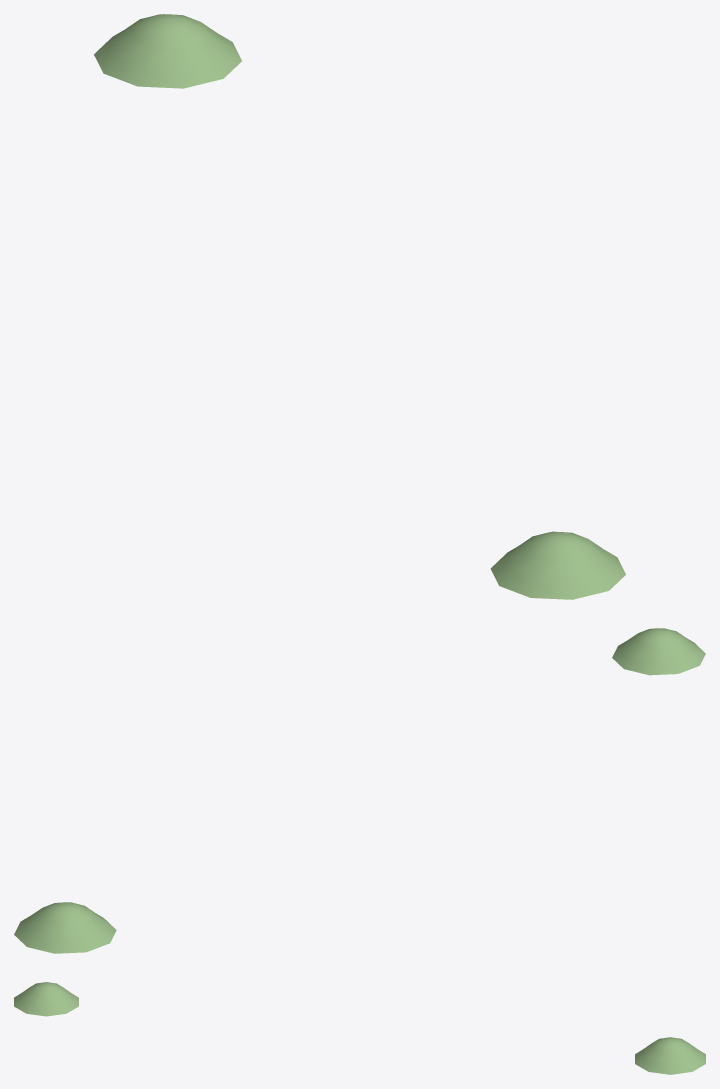
The model's file is hills.fbx.
3 views of the same model, one above another, from view 1: azimuth 30°, elevation 25°; view 2: azimuth 150°, elevation 25°; view 3: azimuth 270°, elevation 25° (orthographic). The views are drawn at different scales.
Visible parts, largest first — view 1: hill_1_geo, hill_2_geo; view 2: hill_1_geo, hill_2_geo; view 3: hill_1_geo, hill_2_geo.
Part boxes in pixels (bbox=[...]): hill_1_geo: bbox=[94, 14, 241, 88]; hill_2_geo: bbox=[490, 531, 625, 599]; hill_1_geo: bbox=[14, 902, 116, 953]; hill_2_geo: bbox=[612, 628, 705, 675]; hill_1_geo: bbox=[635, 1037, 705, 1074]; hill_2_geo: bbox=[14, 982, 78, 1016].
Bounding box in the file's own units: 20.92 × 2.15 × 70.12.
